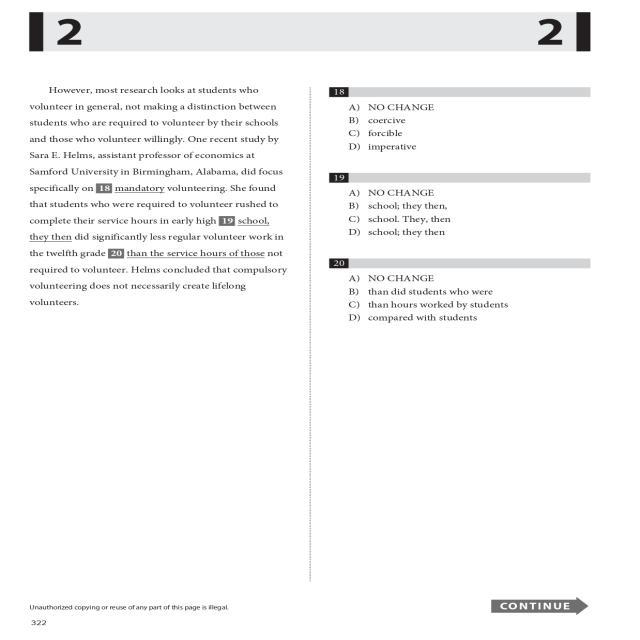Answer_Block: (316, 184, 602, 246), (316, 100, 602, 161), (316, 273, 602, 327)
Instruction: (18, 84, 305, 581)
Question_Answer_Block: (316, 168, 602, 246), (316, 83, 602, 161), (316, 257, 602, 329)
Question_Block: (316, 83, 602, 101), (316, 168, 602, 186), (316, 257, 602, 272)
Question_Paper_Area: (18, 84, 305, 581), (316, 83, 602, 580)
